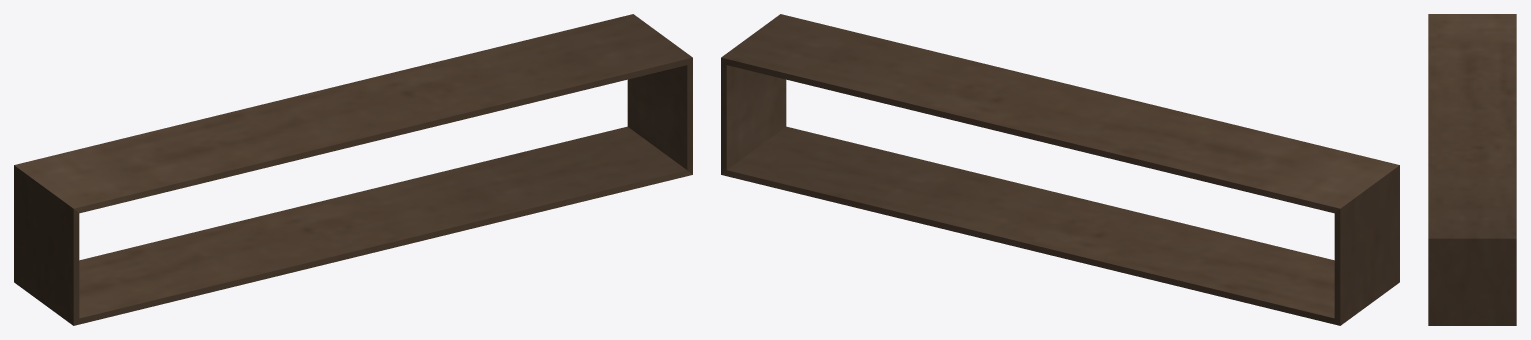
File: bookshelf_2.fbx
3 views of the same model, side by side, from view 1: azimuth 30°, elevation 25°; view 2: azimuth 150°, elevation 25°; view 3: azimuth 270°, elevation 25° (orthographic). The views are drawn at different scales.
Visible parts, largest first — view 1: polySurface1116; view 2: polySurface1116; view 3: polySurface1116.
Boxes of the visible parts, box(x1,y1,x2,y2) form: polySurface1116: box(14, 14, 692, 325); polySurface1116: box(721, 14, 1399, 325); polySurface1116: box(1428, 14, 1516, 325).
Bounding box in the file's own units: 165 × 29.85 × 27.5.
